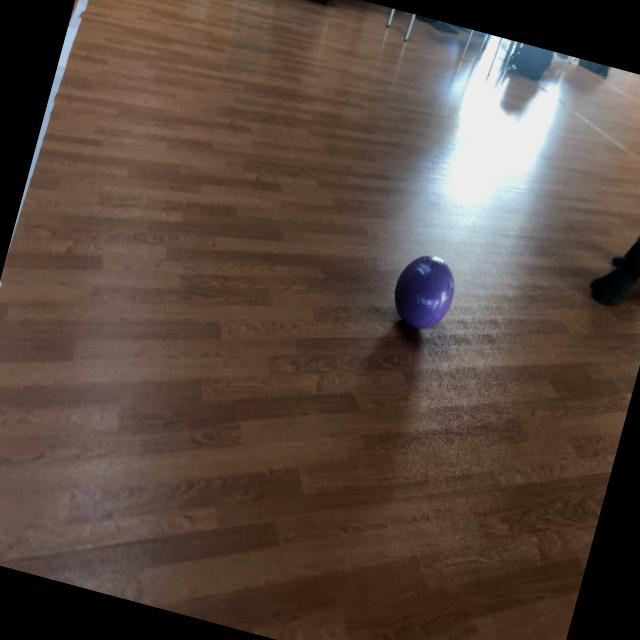purple_ball: (386, 248, 460, 336)
